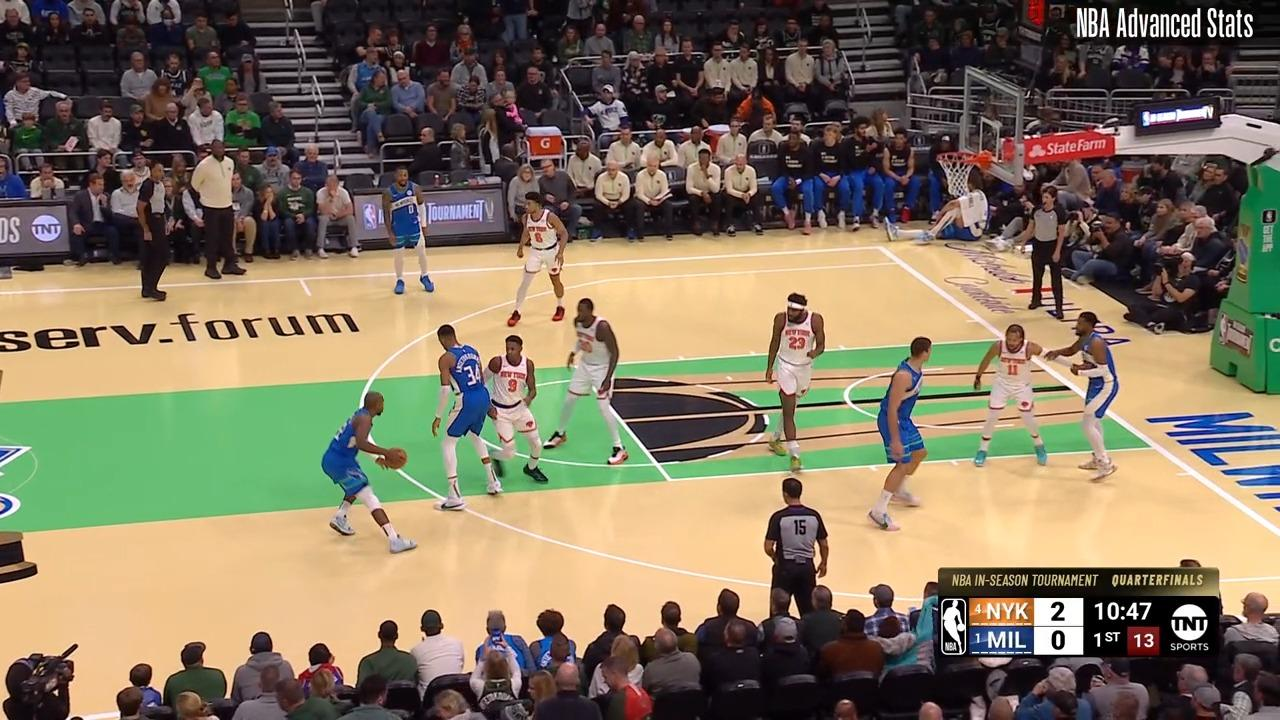Backboard: (959, 75, 1039, 170)
Ball: (388, 449, 408, 469)
Basket: (937, 148, 979, 195)
Person: (318, 386, 417, 557), (861, 333, 937, 534), (972, 320, 1062, 478), (422, 322, 498, 503), (762, 288, 830, 471), (565, 295, 635, 468), (482, 334, 553, 495), (502, 190, 571, 330), (1073, 306, 1121, 483), (385, 164, 444, 302)
Referee: (762, 477, 832, 614), (136, 161, 186, 303), (1024, 181, 1074, 319)
Shot Clock: (1026, 0, 1059, 74)
